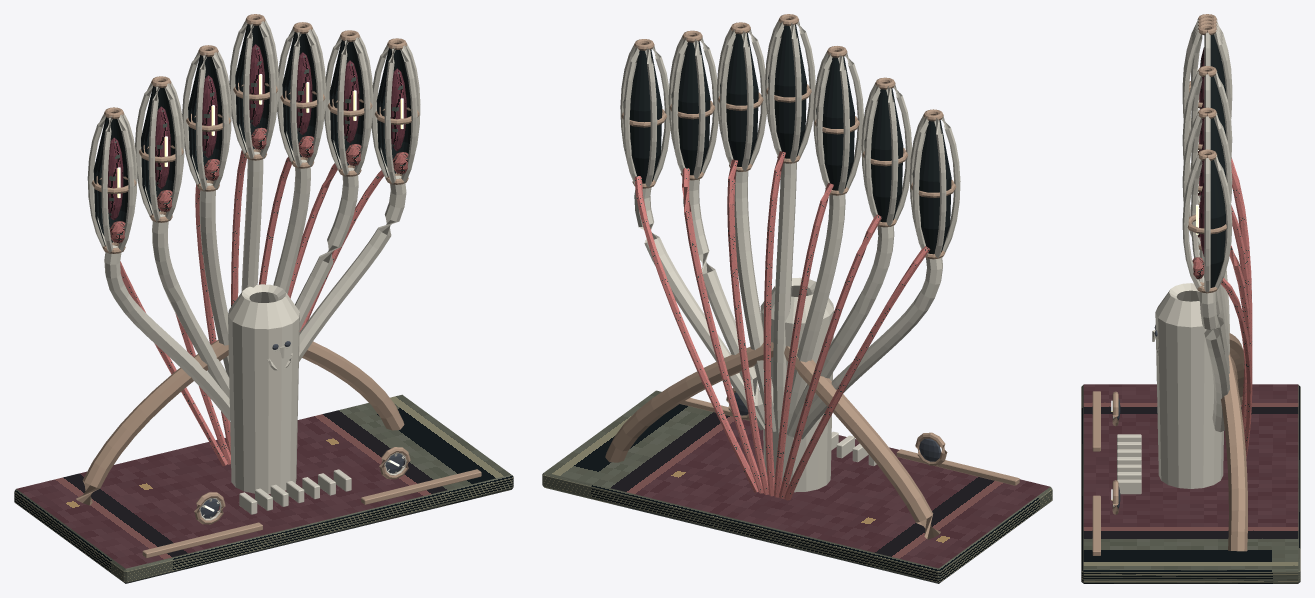
File: heart_seven_reservoirs.glb
3 renders of one model, left to right at view 1: azimuth 30°, elevation 25°; view 2: azimuth 150°, elevation 25°; view 3: azimuth 270°, elevation 25°, orthographic. The views are drawn at different scales.
Parts seen in each view (by area): view 1: heart_seven_reservoirs_warm, heart_seven_reservoirs_petrol, heart_seven_reservoirs_worn, heart_seven_reservoirs_suture, heart_seven_reservoirs_bruised, heart_seven_reservoirs_sick; view 2: heart_seven_reservoirs_petrol, heart_seven_reservoirs_warm, heart_seven_reservoirs_suture, heart_seven_reservoirs_worn; view 3: heart_seven_reservoirs_petrol, heart_seven_reservoirs_warm, heart_seven_reservoirs_worn, heart_seven_reservoirs_suture, heart_seven_reservoirs_bruised.
Boxes of the visible parts, bbox=[...] form: heart_seven_reservoirs_warm: bbox=[87, 20, 420, 520]; heart_seven_reservoirs_petrol: bbox=[14, 24, 513, 583]; heart_seven_reservoirs_worn: bbox=[76, 14, 481, 558]; heart_seven_reservoirs_suture: bbox=[110, 127, 408, 466]; heart_seven_reservoirs_bruised: bbox=[107, 44, 406, 220]; heart_seven_reservoirs_sick: bbox=[117, 74, 403, 511]; heart_seven_reservoirs_petrol: bbox=[542, 24, 1052, 583]; heart_seven_reservoirs_warm: bbox=[620, 20, 960, 492]; heart_seven_reservoirs_suture: bbox=[634, 151, 930, 500]; heart_seven_reservoirs_worn: bbox=[605, 14, 1019, 539]; heart_seven_reservoirs_petrol: bbox=[1081, 34, 1300, 583]; heart_seven_reservoirs_warm: bbox=[1113, 19, 1232, 507]; heart_seven_reservoirs_worn: bbox=[1092, 14, 1247, 555]; heart_seven_reservoirs_suture: bbox=[1192, 139, 1252, 458]; heart_seven_reservoirs_bruised: bbox=[1199, 47, 1204, 256].
Size of the model in its own units: 6.45 by 7.49 by 3.2.
7 materials, 3 textured.
